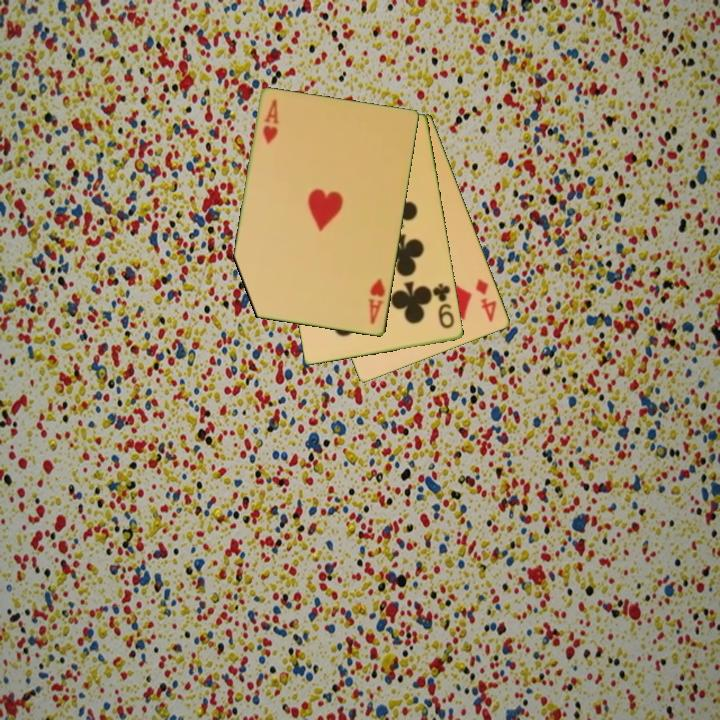4d: (472, 275, 500, 325)
9c: (430, 280, 457, 332)
Ah: (365, 275, 388, 327), (259, 96, 281, 148)
